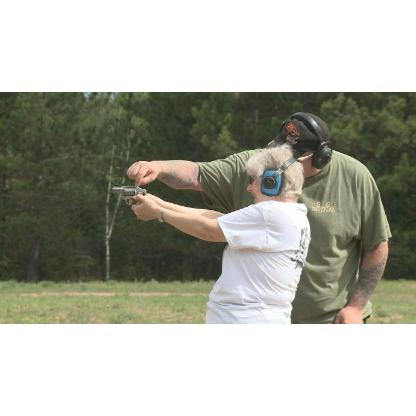gun: (110, 182, 150, 218)
